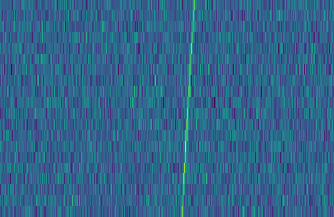signal: (177, 0, 198, 217)
